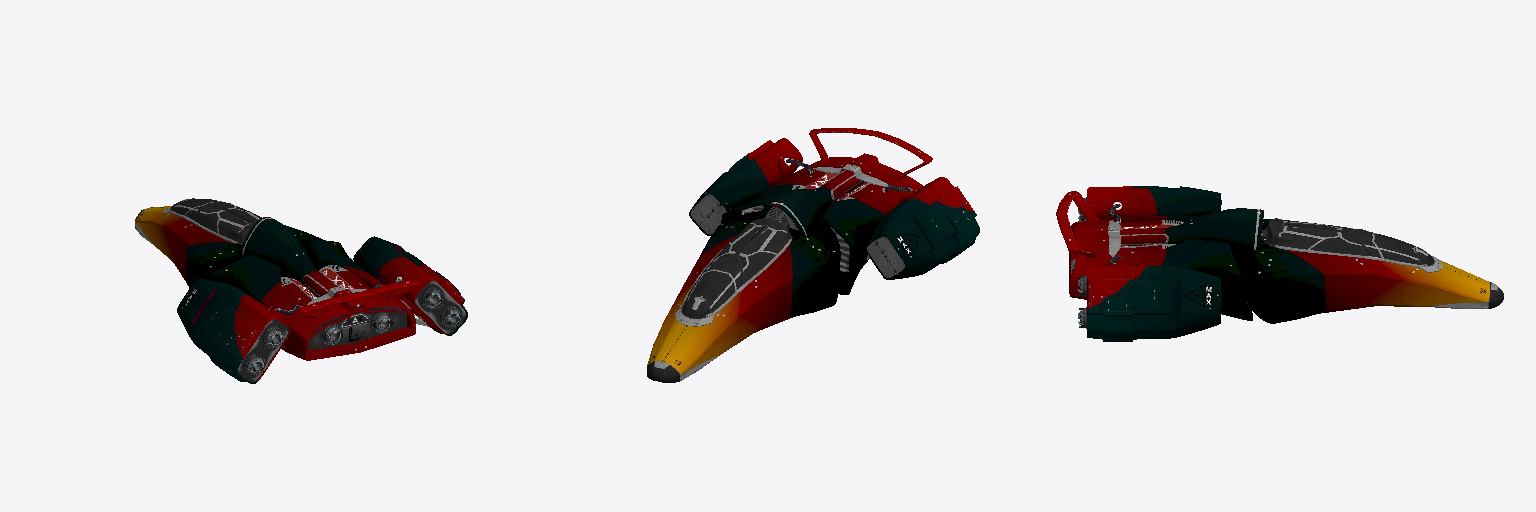
3 views of the same model, side by side, from view 1: azimuth 30°, elevation 25°; view 2: azimuth 150°, elevation 25°; view 3: azimuth 270°, elevation 25° (orthographic).
Visible parts, largest first — view 1: front; view 2: front; view 3: front.
Boxes of the visible parts, box(x1,y1,x2,y2) form: front: box(135, 198, 467, 383); front: box(647, 128, 979, 382); front: box(1056, 186, 1503, 341).
Bounding box in the file's own units: 9.93 × 3.66 × 16.12.
Materials: 1 (1 with a texture image).